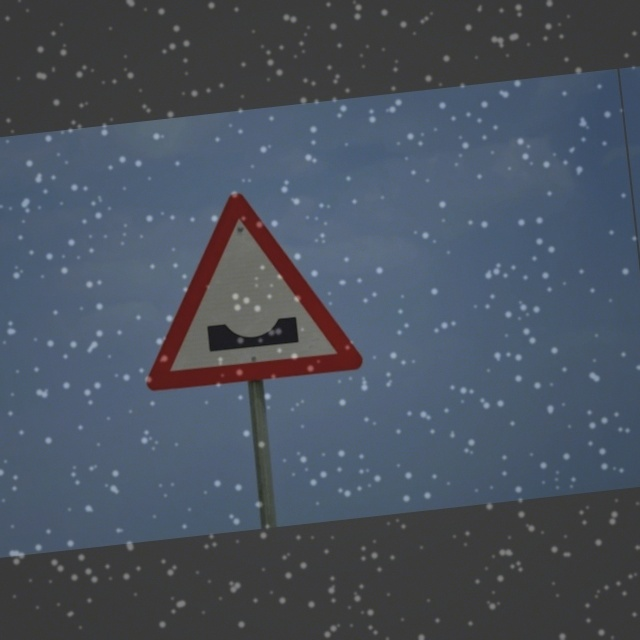Dangerous_Dip: (126, 176, 365, 394)
